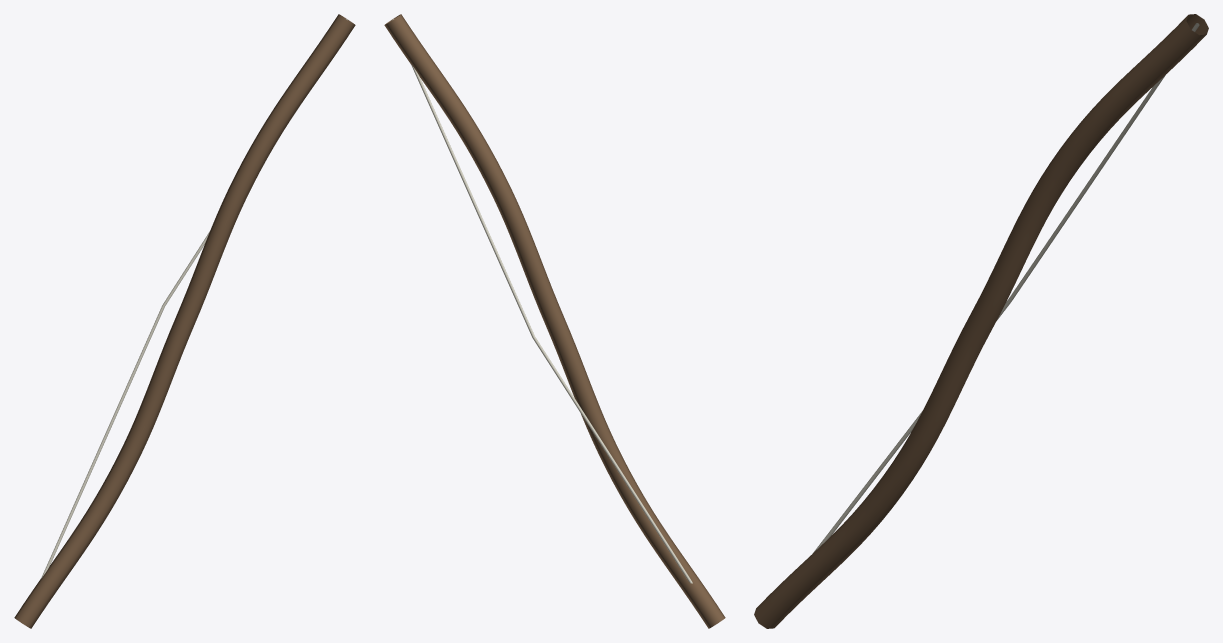
The model's file is bow.glb.
The picture shows the model from 3 angles, left to right: view 1: azimuth 30°, elevation 25°; view 2: azimuth 150°, elevation 25°; view 3: azimuth 330°, elevation 25°; orthographic projection. The views are drawn at different scales.
Parts seen in each view (by area): view 1: BowLimb, BowString; view 2: BowLimb, BowString; view 3: BowLimb, BowString.
Boxes of the visible parts, x1,y1,x2,y2 form: BowLimb: (14, 14, 355, 628); BowString: (41, 19, 348, 578); BowLimb: (384, 14, 725, 628); BowString: (391, 19, 692, 583); BowLimb: (754, 14, 1208, 628); BowString: (812, 23, 1199, 553).
Bounding box in the file's own units: 45.86 × 69.51 × 6.38.
